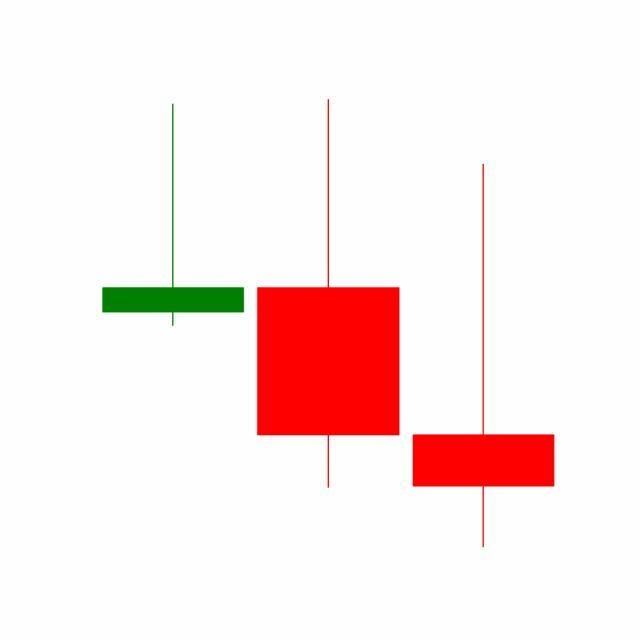Spinning Top: (406, 160, 562, 552)
